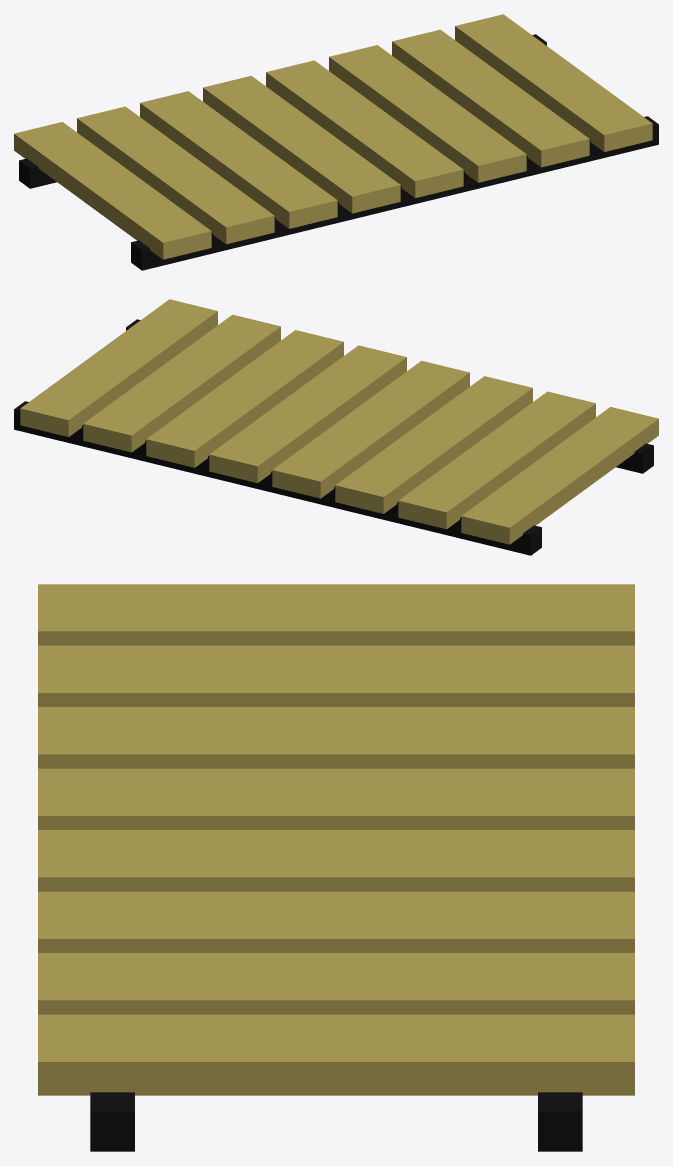
File: game2_week09_xylophone.fbx
3 views of the same model, one above another, from view 1: azimuth 30°, elevation 25°; view 2: azimuth 150°, elevation 25°; view 3: azimuth 270°, elevation 25° (orthographic). The views are drawn at different scales.
Parts seen in each view (by area): view 1: Cube, Cube.001; view 2: Cube, Cube.001; view 3: Cube, Cube.001.
Boxes of the visible parts, box(x1,y1,x2,y2) form: Cube: box(14, 14, 652, 259); Cube.001: box(19, 34, 658, 270); Cube: box(20, 299, 658, 544); Cube.001: box(14, 319, 653, 555); Cube: box(38, 584, 634, 1095); Cube.001: box(90, 1092, 582, 1151).
Bounding box in the file's own units: 320 × 21 × 160.
